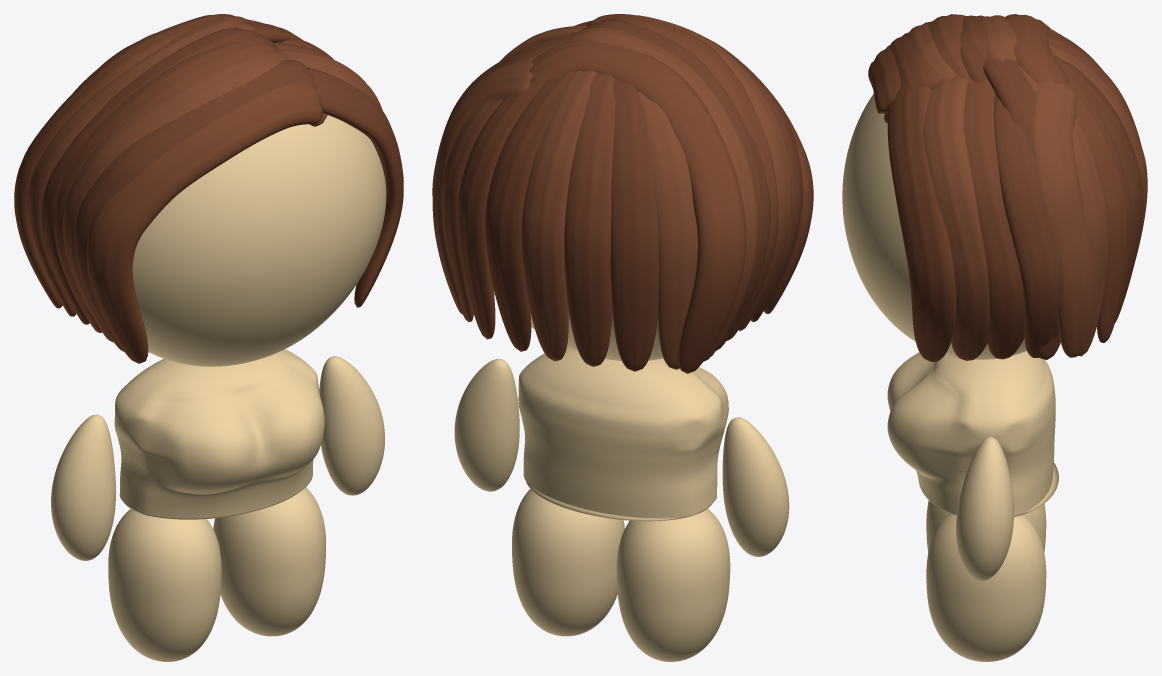
File: Feminine-base.glb
The picture shows the model from 3 angles, left to right: view 1: azimuth 30°, elevation 25°; view 2: azimuth 150°, elevation 25°; view 3: azimuth 270°, elevation 25°; orthographic projection.
Visible parts, largest first — view 1: Skin / soft oval head, Skin / rounded torso, Hair / Bob / side sweep 0, Skin / leg blob -1, Skin / leg blob 1, Hair / Bob / side sweep 1, Skin / swept arm -1, Skin / swept arm 1, Hair / Bob / side sweep 2, Hair / Bob / side sweep 3, Hair / Bob / side sweep 7, Hair / Bob / side sweep 6 (+4 smaller); view 2: Skin / rounded torso, Hair / Bob / side sweep 6, Skin / leg blob -1, Skin / leg blob 1, Hair / Bob / side sweep 19, Hair / Bob / side sweep 18, Hair / Bob / side sweep 17, Hair / Bob / side sweep 16, Hair / Bob / side sweep 20, Skin / swept arm -1, Hair / Bob / side sweep 15, Skin / swept arm 1 (+11 smaller); view 3: Skin / rounded torso, Skin / leg blob 1, Hair / Bob / side sweep 7, Skin / soft oval head, Hair / Bob / side sweep 8, Hair / Bob / side sweep 11, Hair / Bob / side sweep 10, Hair / Bob / side sweep 9, Skin / swept arm 1, Hair / Bob / side sweep 15, Hair / Bob / side sweep 14, Hair / Bob / side sweep 16 (+11 smaller).
Part boxes in pixels (x1,y1,x2,y2): Skin / soft oval head: (132, 115, 386, 366); Skin / rounded torso: (114, 349, 324, 519); Hair / Bob / side sweep 0: (87, 83, 327, 363); Skin / leg blob -1: (108, 509, 221, 661); Skin / leg blob 1: (213, 487, 326, 636); Hair / Bob / side sweep 1: (74, 59, 317, 351); Skin / swept arm -1: (51, 414, 115, 560); Skin / swept arm 1: (319, 356, 384, 495); Hair / Bob / side sweep 2: (62, 52, 289, 342); Hair / Bob / side sweep 3: (54, 39, 281, 332); Hair / Bob / side sweep 7: (308, 67, 403, 307); Hair / Bob / side sweep 6: (14, 14, 250, 308); Skin / rounded torso: (518, 347, 728, 521); Hair / Bob / side sweep 6: (529, 40, 746, 373); Skin / leg blob -1: (616, 508, 730, 661); Skin / leg blob 1: (512, 489, 624, 636); Hair / Bob / side sweep 19: (610, 78, 658, 371); Hair / Bob / side sweep 18: (564, 72, 615, 366); Hair / Bob / side sweep 17: (521, 70, 595, 361); Hair / Bob / side sweep 16: (485, 71, 576, 351); Hair / Bob / side sweep 20: (637, 91, 697, 369); Skin / swept arm -1: (722, 417, 789, 556); Hair / Bob / side sweep 15: (457, 82, 545, 339); Skin / swept arm 1: (454, 359, 519, 491); Skin / rounded torso: (887, 351, 1058, 516); Skin / leg blob 1: (926, 513, 1046, 661); Hair / Bob / side sweep 7: (887, 85, 956, 361); Skin / soft oval head: (842, 93, 1026, 359); Hair / Bob / side sweep 8: (923, 76, 989, 360); Hair / Bob / side sweep 11: (1032, 80, 1095, 357); Hair / Bob / side sweep 10: (993, 93, 1063, 357); Hair / Bob / side sweep 9: (964, 80, 1024, 359); Skin / swept arm 1: (956, 436, 1013, 581); Hair / Bob / side sweep 15: (1067, 76, 1131, 342); Hair / Bob / side sweep 14: (1019, 65, 1109, 356); Hair / Bob / side sweep 16: (1053, 54, 1143, 322).
Size of the model in its own units: 1.04 by 1.86 by 0.8526.
